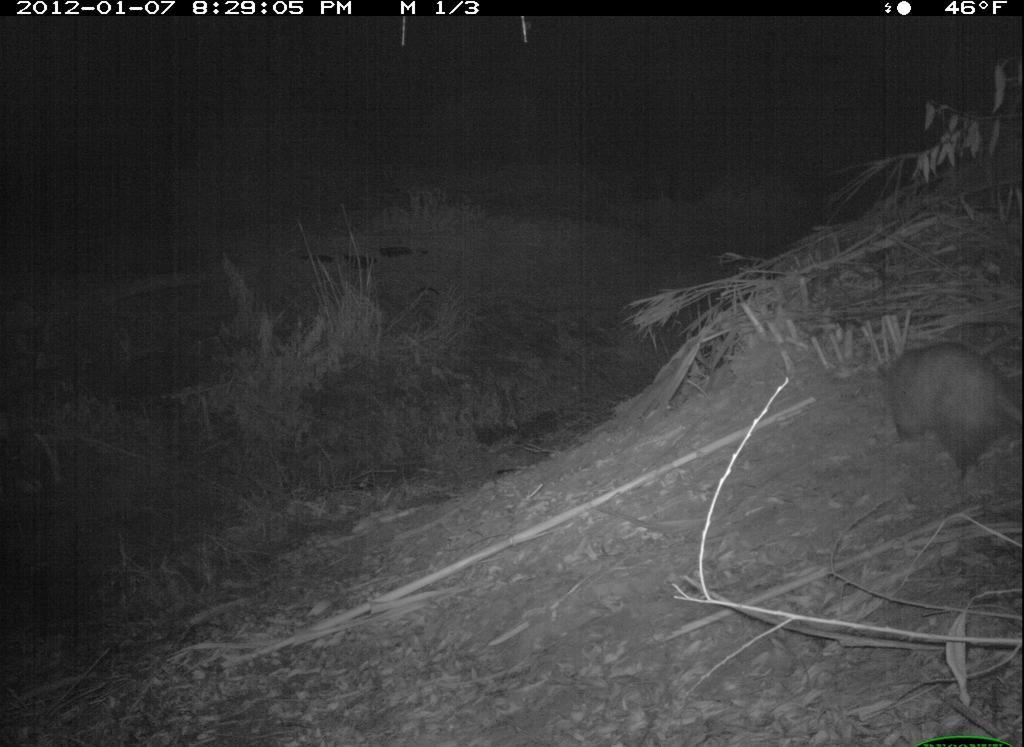opossum: (876, 331, 1022, 488)
